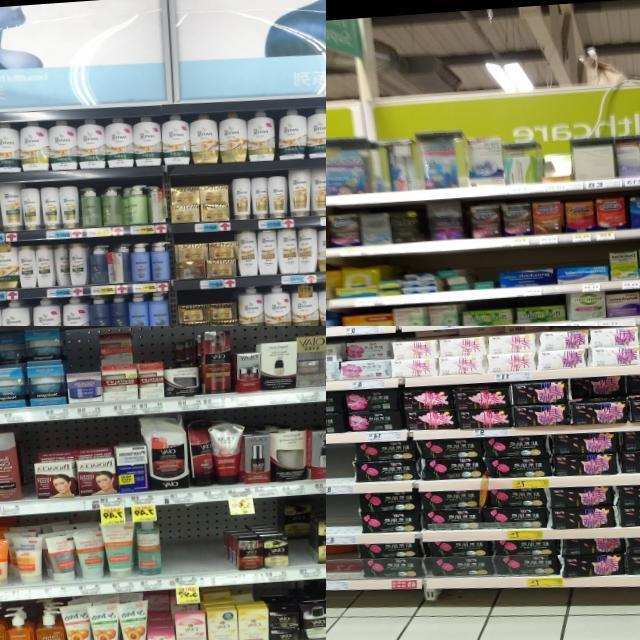Imprecise: (280, 494, 322, 573), (572, 373, 636, 421), (98, 329, 136, 401), (335, 340, 394, 380), (0, 332, 26, 409), (146, 590, 174, 637)
